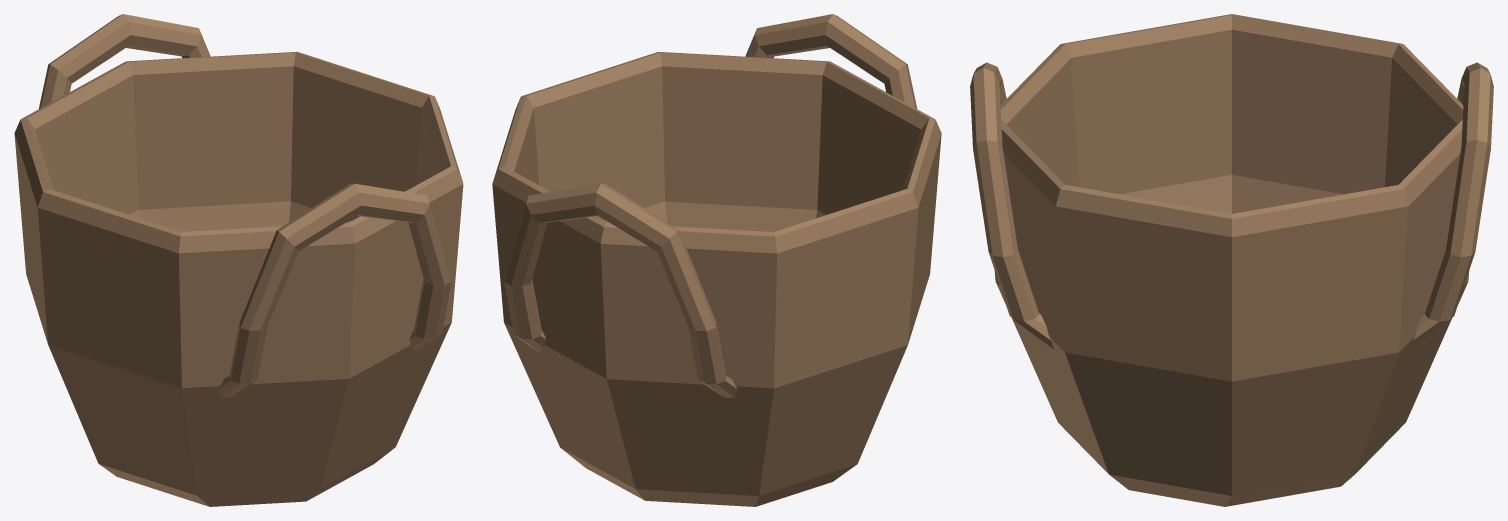
Rendered from kosz_1.fbx.
3 views of the same model, side by side, from view 1: azimuth 30°, elevation 25°; view 2: azimuth 150°, elevation 25°; view 3: azimuth 270°, elevation 25° (orthographic). The views are drawn at different scales.
Visible parts, largest first — view 1: Torus.002; view 2: Torus.002; view 3: Torus.002.
Boxes of the visible parts, bbox=[...] form: Torus.002: bbox=[14, 14, 463, 506]; Torus.002: bbox=[492, 14, 941, 506]; Torus.002: bbox=[970, 14, 1493, 506].
Size of the model in its own units: 504 by 421 by 530.
